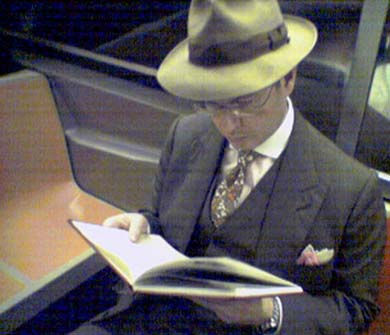without_mask: (198, 77, 295, 151)
